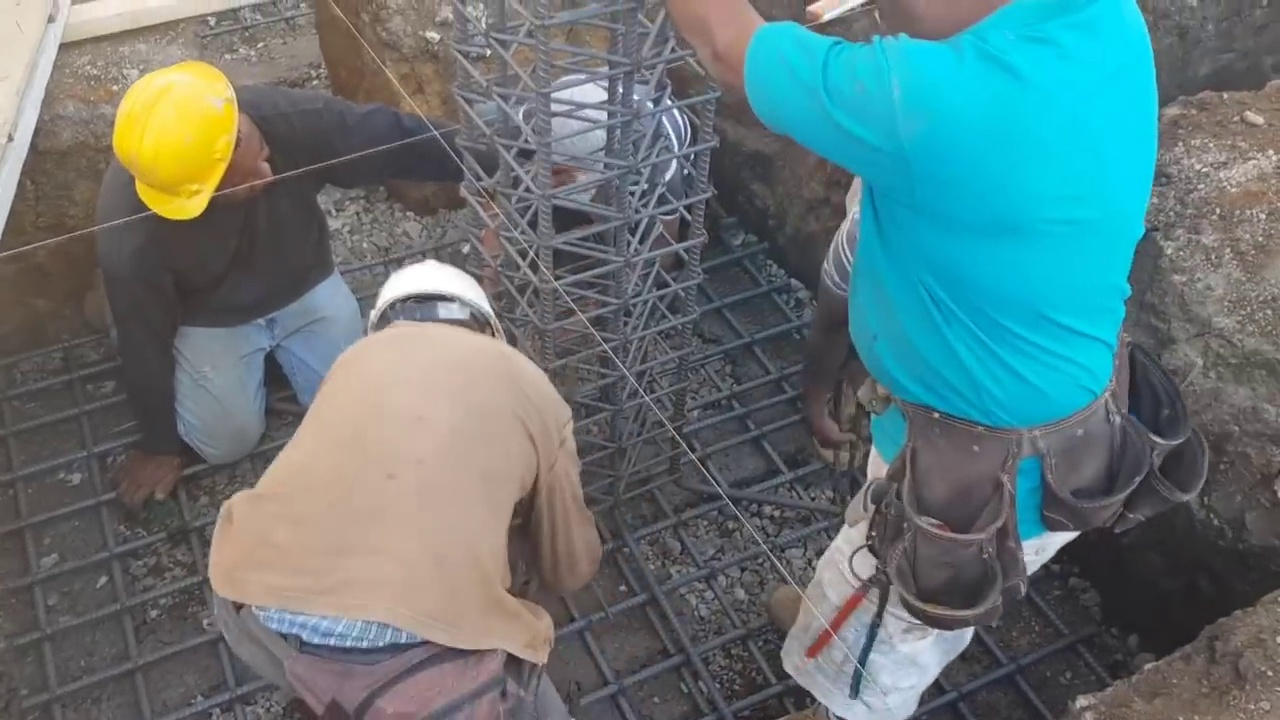helmet: (114, 59, 240, 222), (358, 260, 505, 335)
helmet-off: (526, 84, 621, 200)
helmet-on: (92, 58, 268, 250), (356, 257, 506, 353)
person: (709, 0, 1203, 720), (204, 256, 596, 713), (91, 56, 486, 498), (474, 72, 691, 281), (559, 37, 702, 332)
